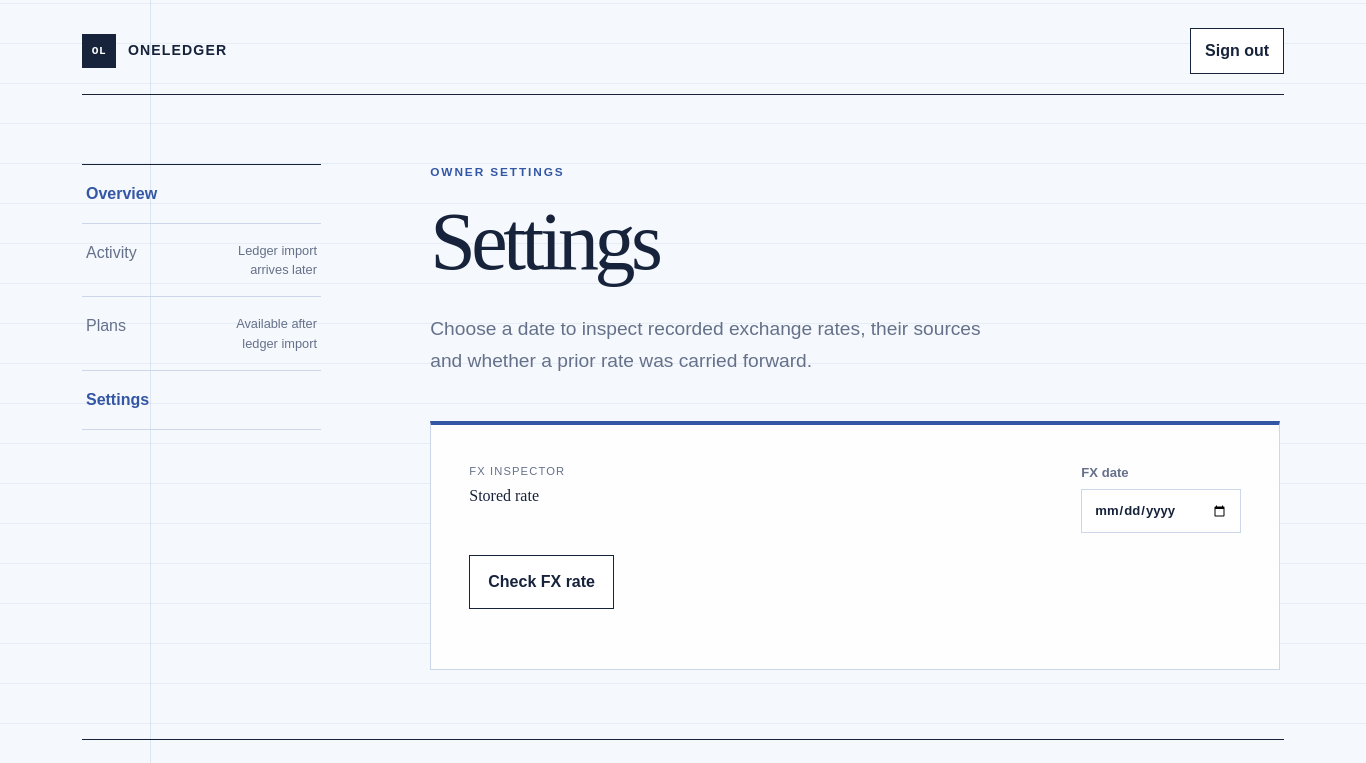
Test: authenticated workspace › clears protected content when FX returns 401
Check: the heading "Settings" is shown, box [430,196,658,287]
Type "2024-01-31" into the date field labelled "FX date" at (1161, 511), box [1081,489,1241,533]
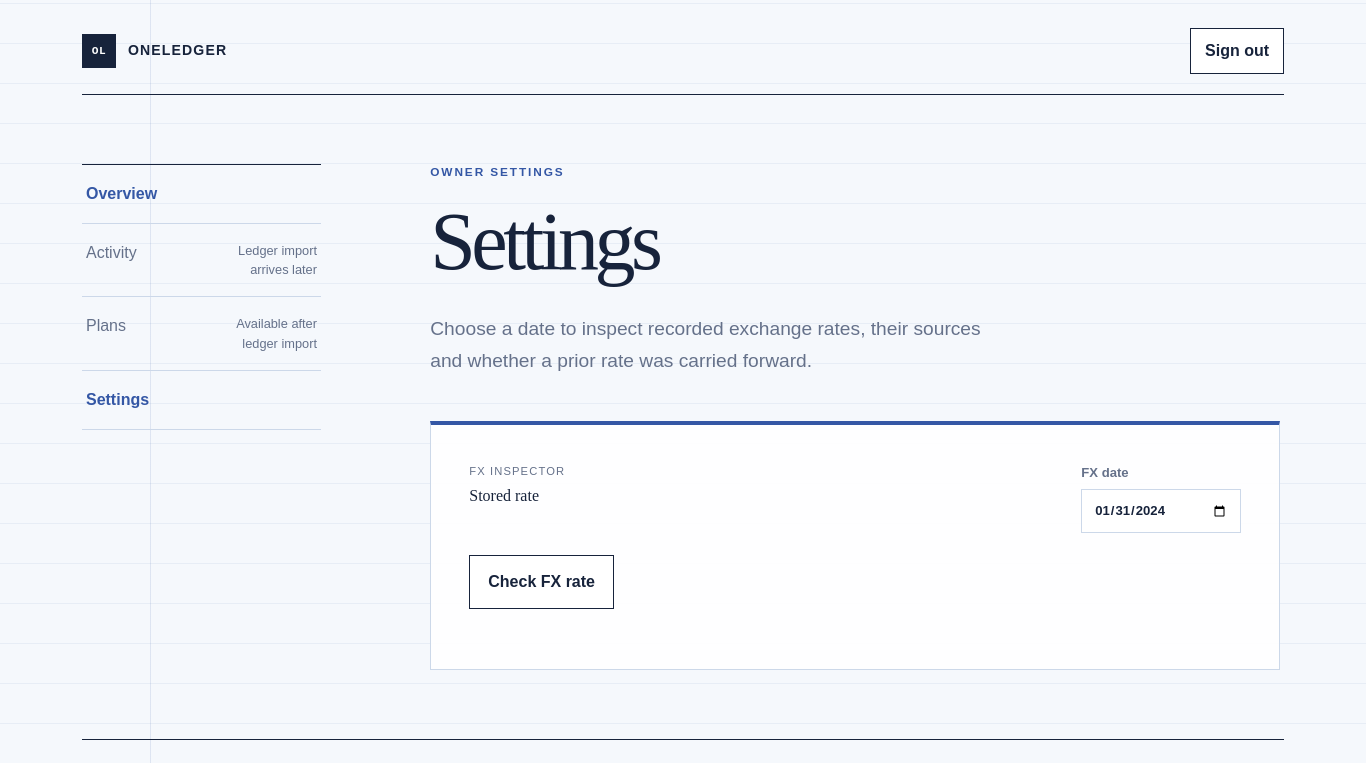
Click the button "Check FX rate" at (542, 582), box [469,555,614,609]
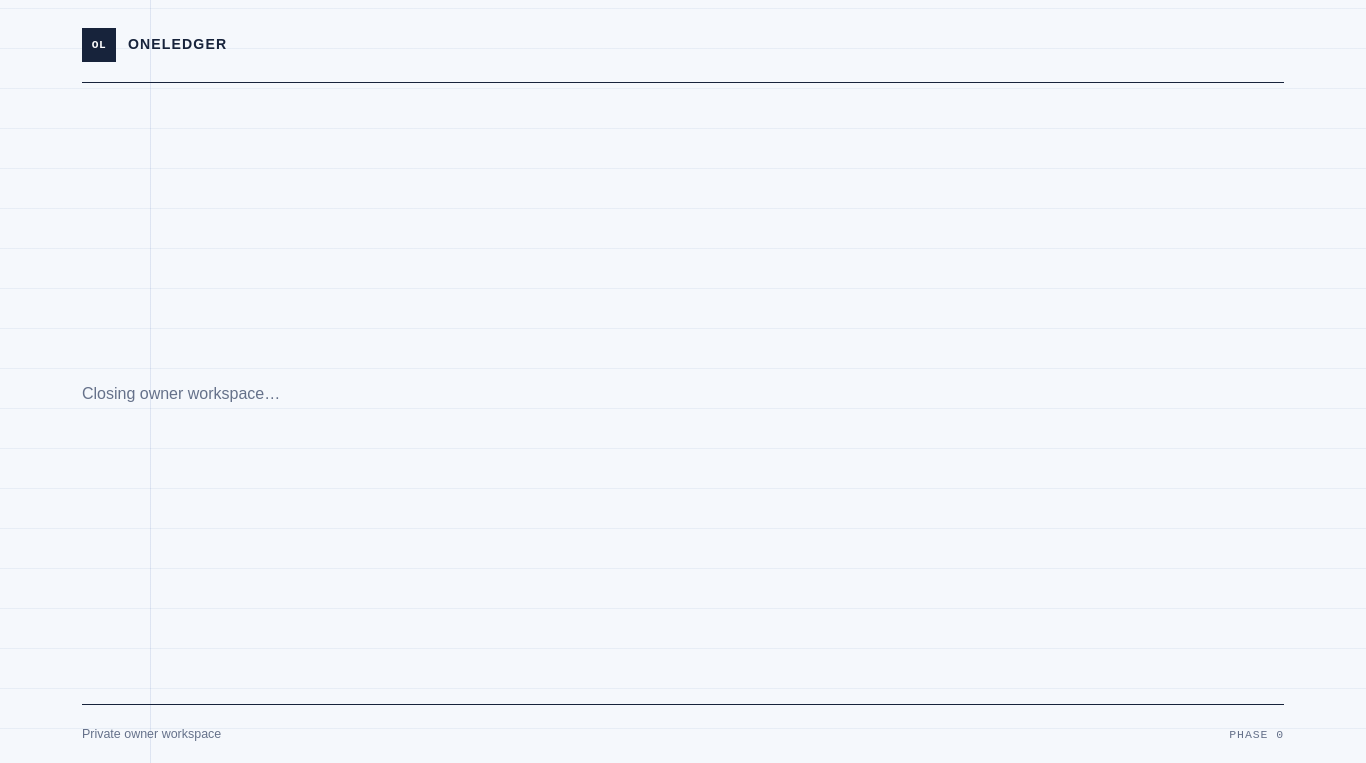
Check: the link "Settings" is gone
